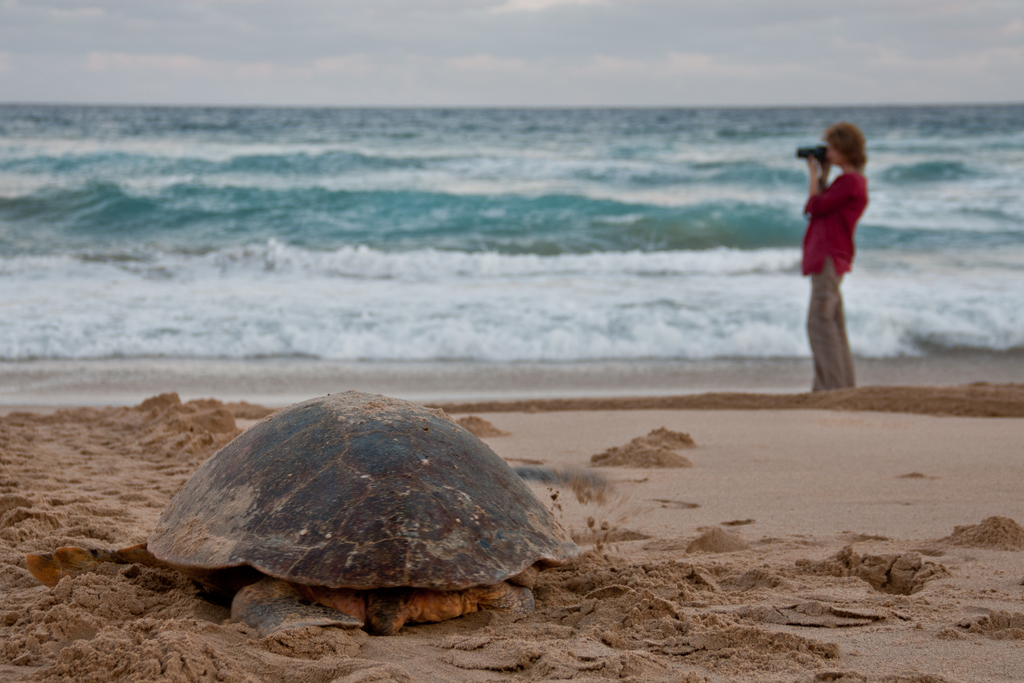Sea turtles: (22, 383, 581, 633)
